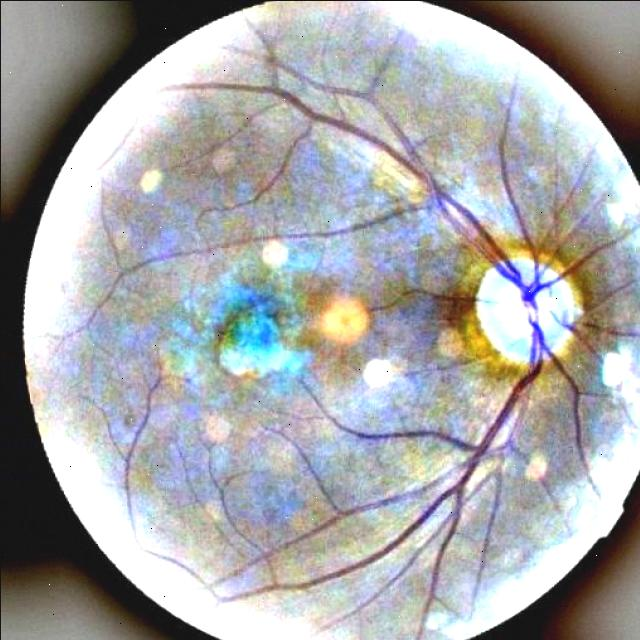Macula: (187, 267, 317, 378)
Nerves: (200, 372, 548, 620), (204, 57, 532, 295), (544, 219, 630, 342)
Optic Disk: (468, 247, 591, 374)
